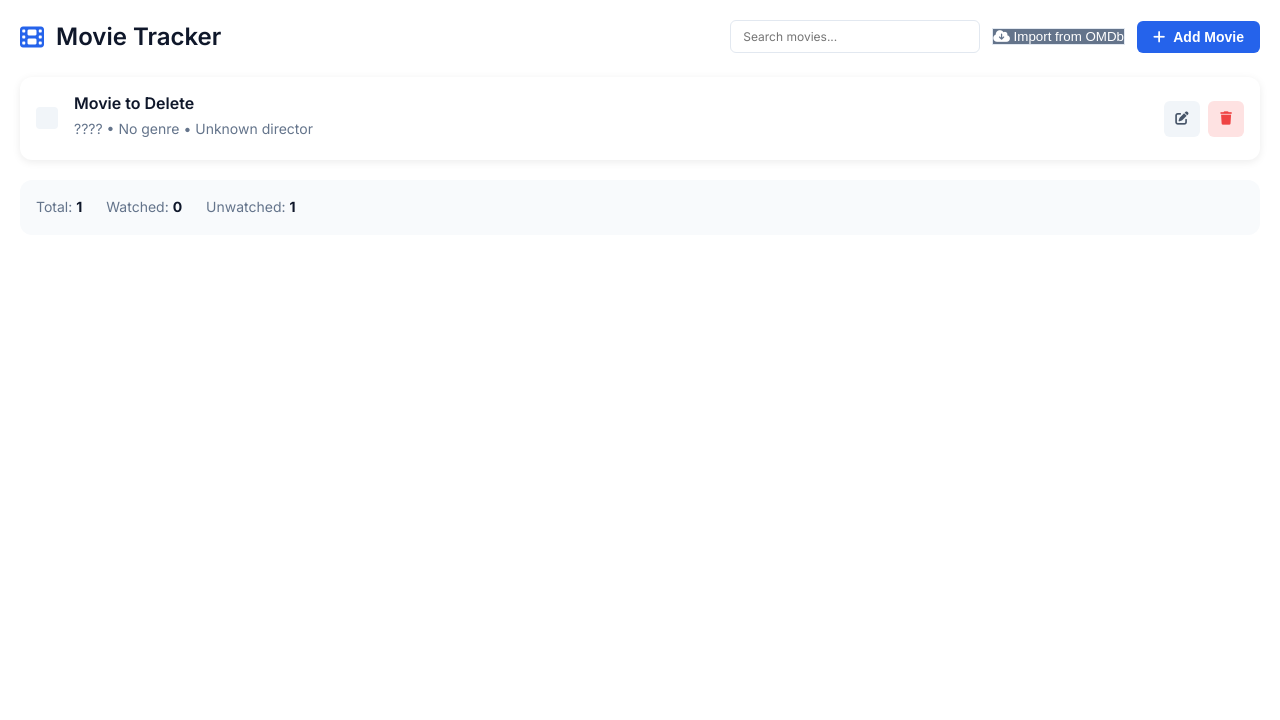
Test: MoviesSection Component › Delete Movie › deletes movie after confirmation
Note: Click delete
What coordinates should you click on to do the following:
click the button titled "Delete"
I would click on:
 (1226, 119)
Its box is [1208,101,1244,137].
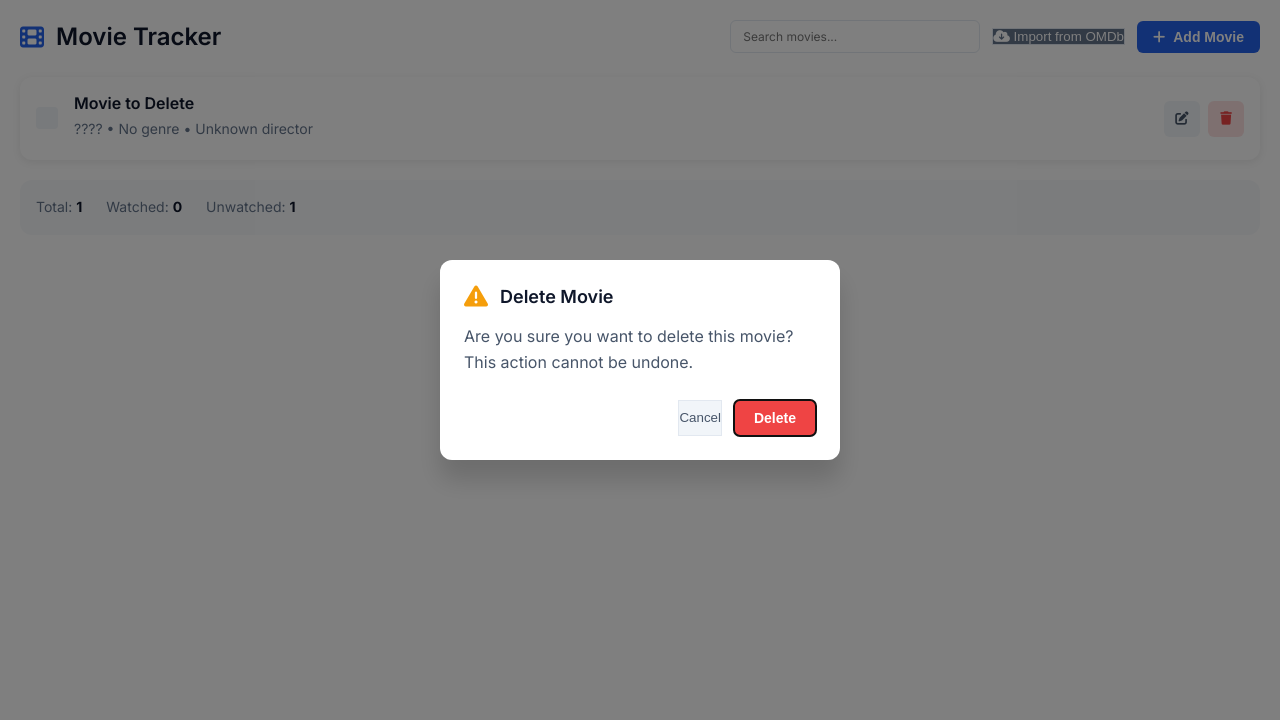
What coordinates should you click on to do the following:
click the button "Delete"
I would click on:
 (775, 418)
Its box is [734,400,816,436].
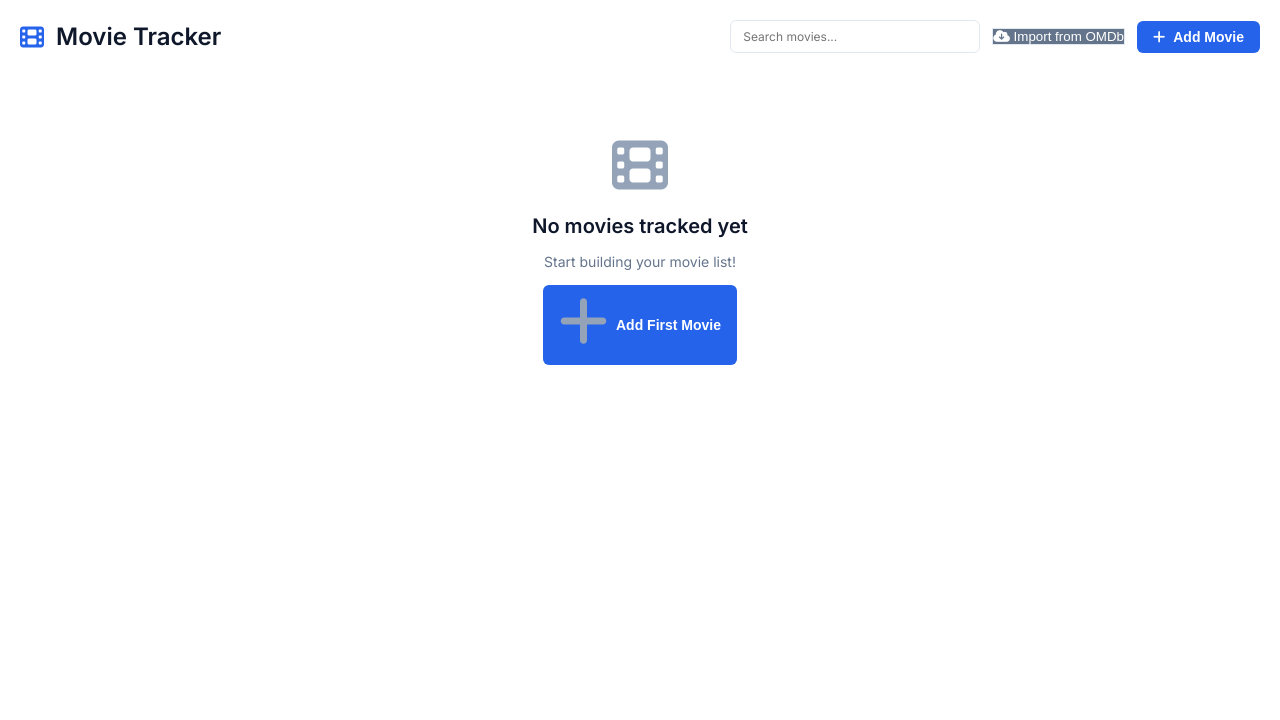
expect the heading "Movie to Delete" is gone: met
